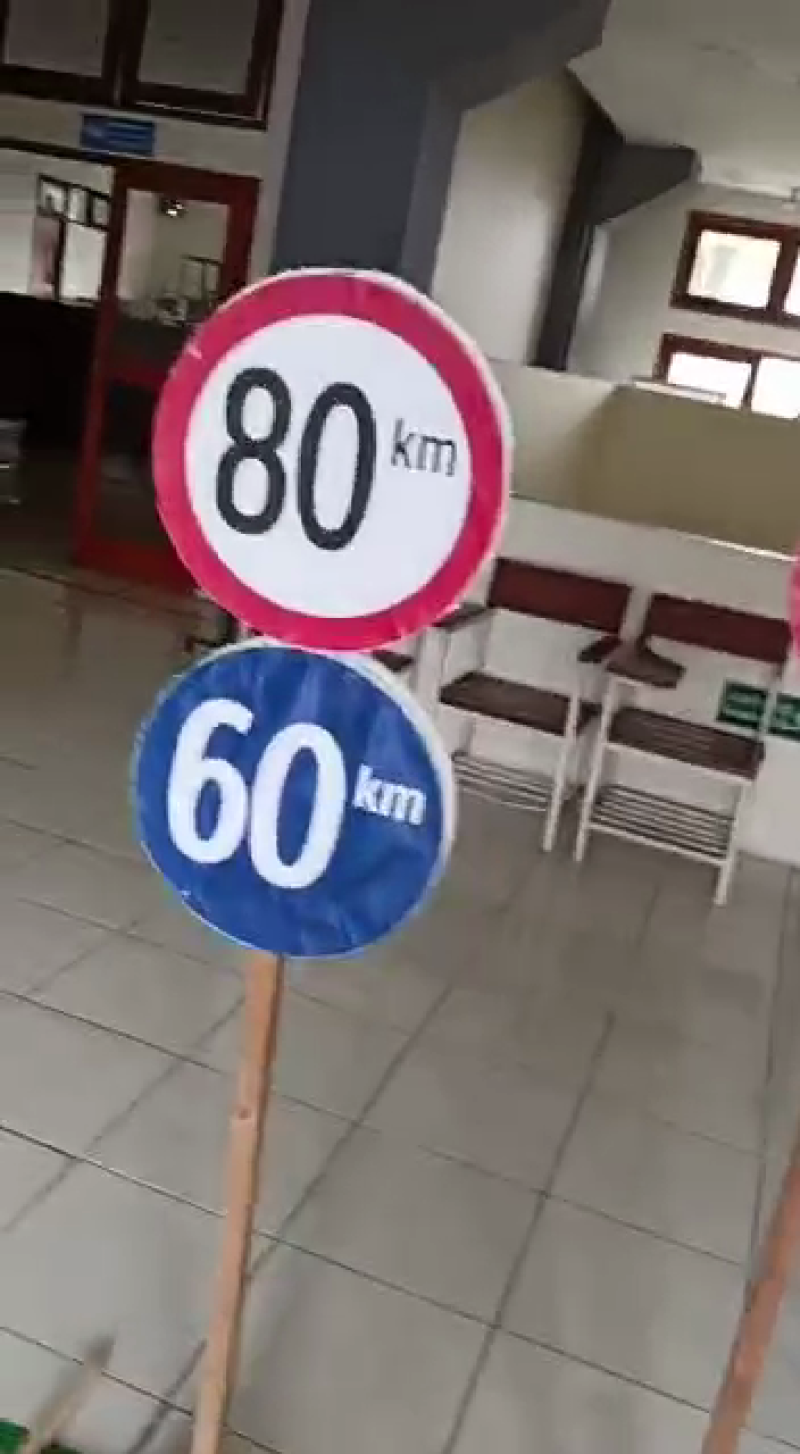batas maksimal 80kmperjam minimal 60kmperjam: (114, 245, 517, 982)
